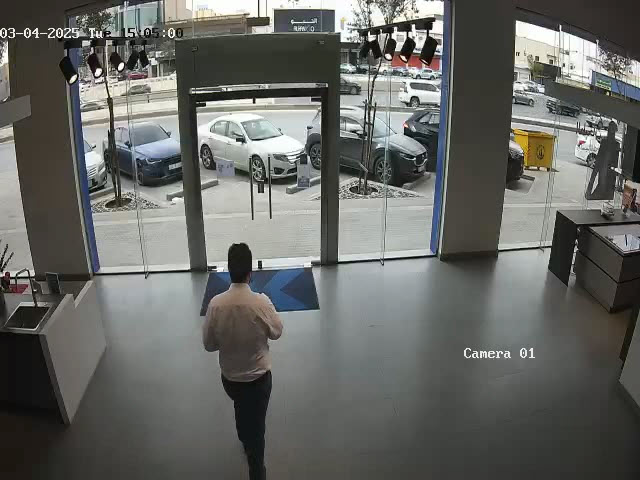male: (201, 242, 284, 480)
other: (579, 106, 630, 220)
